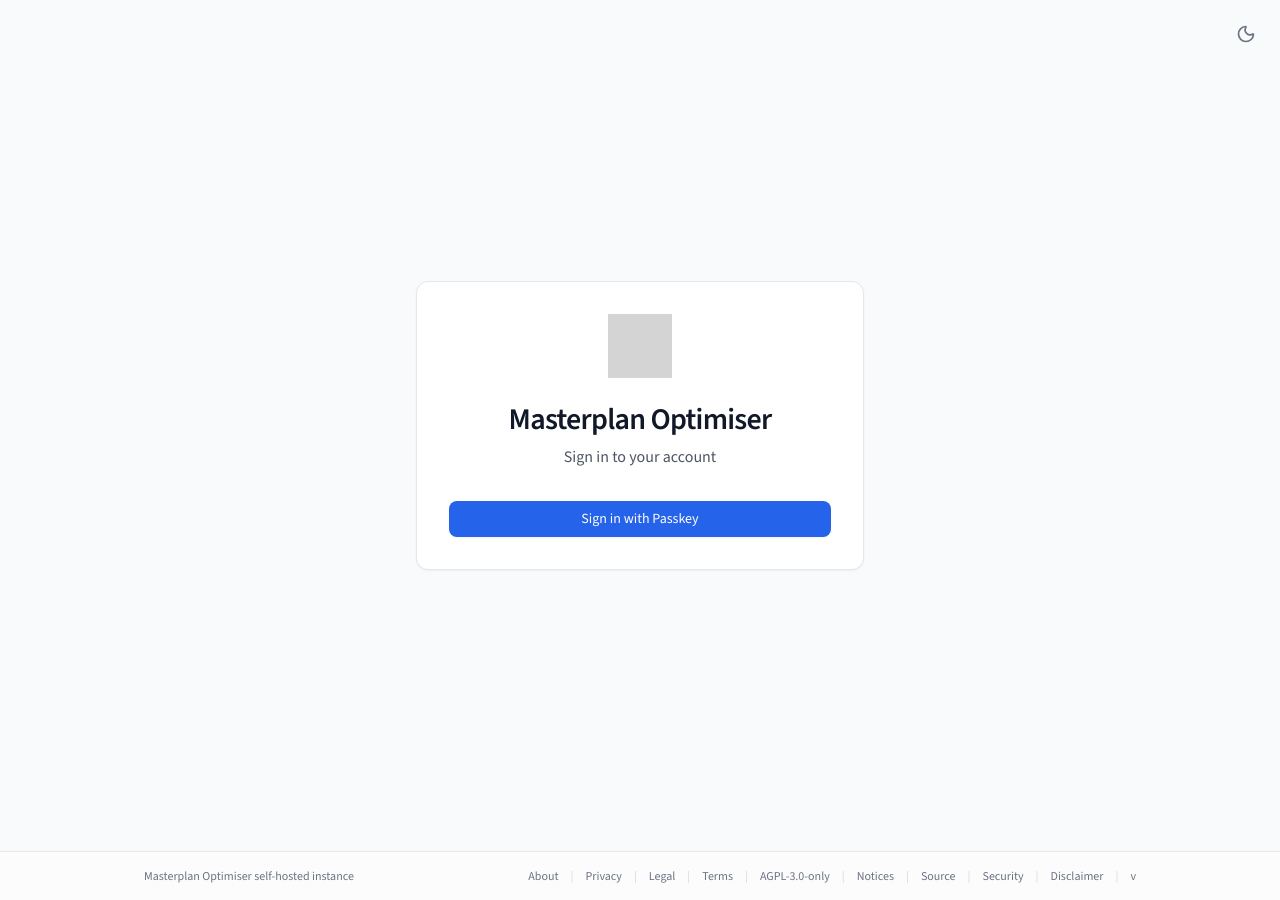
Test: LoginPage › still shows real backend passkey verification failures
Click the button "Sign in with Passkey": point(640, 519) [449, 501, 831, 537]
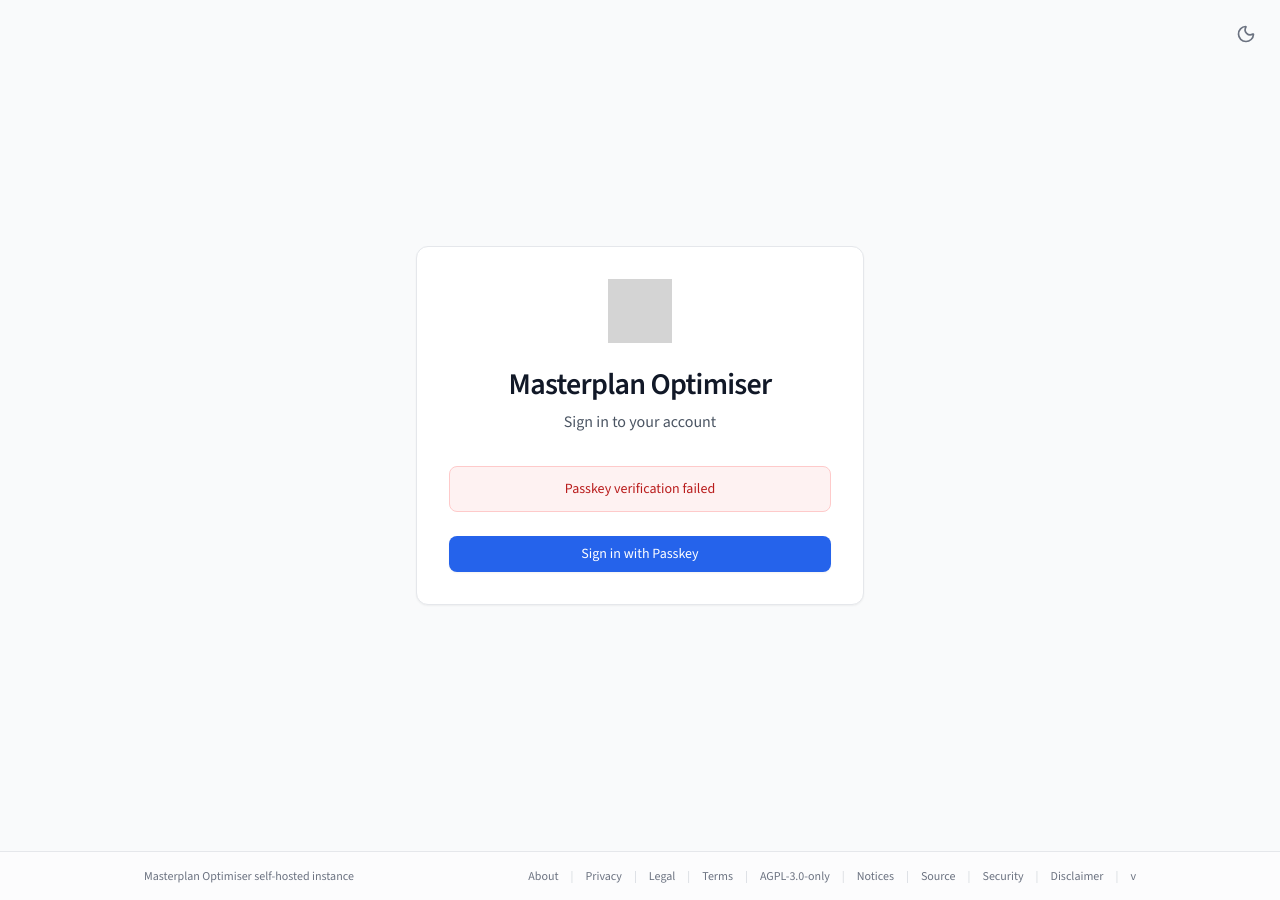
Now the text "Passkey verification failed" is shown, box [449, 466, 831, 512]
